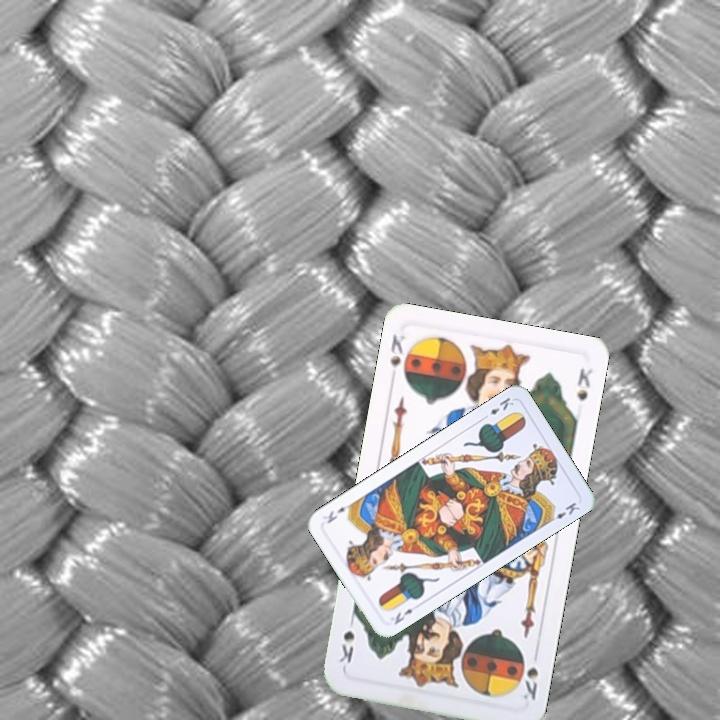EK: (478, 393, 517, 422), (390, 605, 415, 627)
SK: (518, 663, 541, 703), (386, 330, 408, 371)
